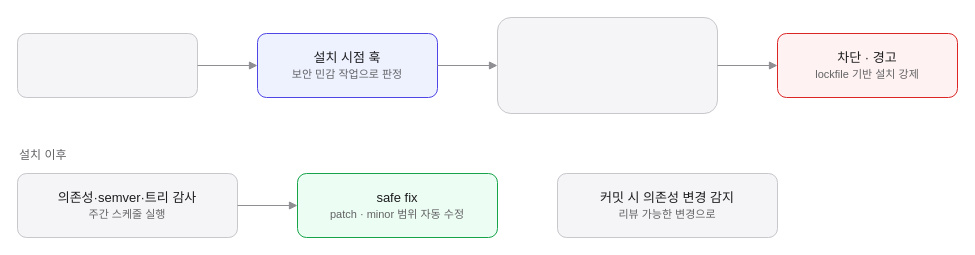
The diagram is 975 pixels wide and 255 high, and some of its shapes have lost their labels. The box of each missing label's shape, as (x1, y1, x2, y2) in pixels:
AI 에이전트 npm · yarn install 실행: (16, 32, 198, 98)
위험 패턴 검사 lockfile 없는 설치 느슨한 semver 범위 설치 스크립트 (postinstall 등): (496, 16, 718, 114)
